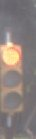Red: (1, 39, 23, 122)
